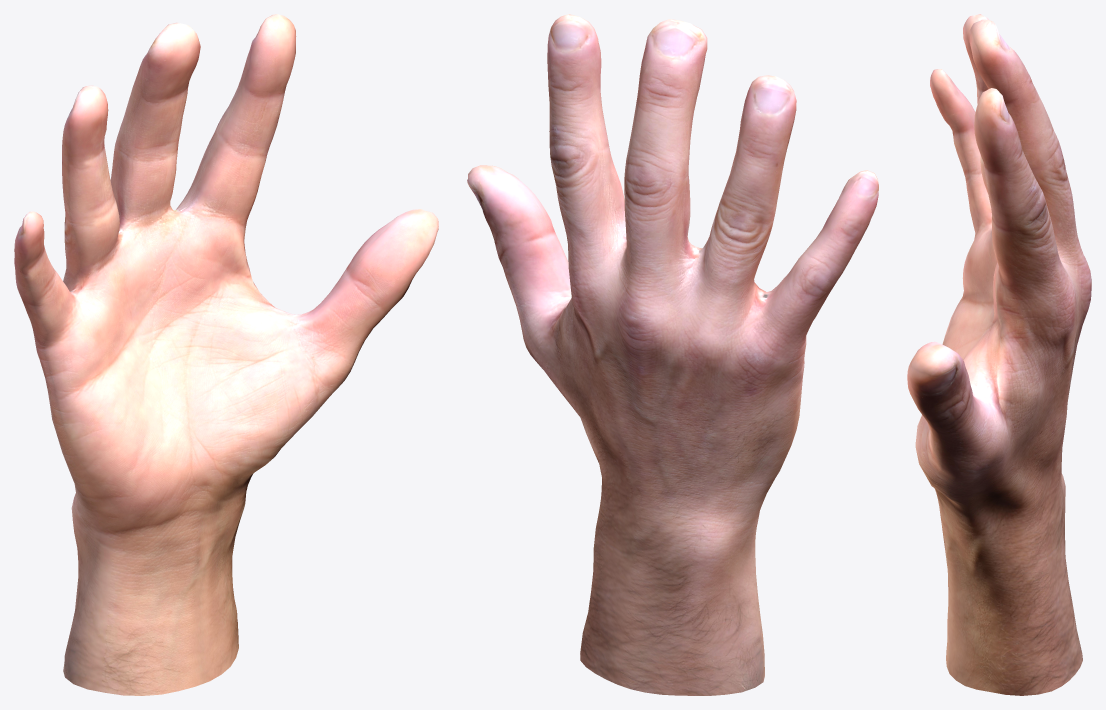
The model's file is male_hand.glb.
3 renders of one model, left to right at view 1: azimuth 30°, elevation 25°; view 2: azimuth 150°, elevation 25°; view 3: azimuth 270°, elevation 25°, orthographic.
Parts seen in each view (by area): view 1: Male_hand_40plus; view 2: Male_hand_40plus; view 3: Male_hand_40plus.
Part boxes in pixels (left/top/right/bottom): Male_hand_40plus: left=14, top=14, right=438, bottom=695; Male_hand_40plus: left=467, top=14, right=878, bottom=695; Male_hand_40plus: left=907, top=14, right=1091, bottom=695.
Size of the model in its own units: 613 by 914 by 237.
1 material, 1 textured.
